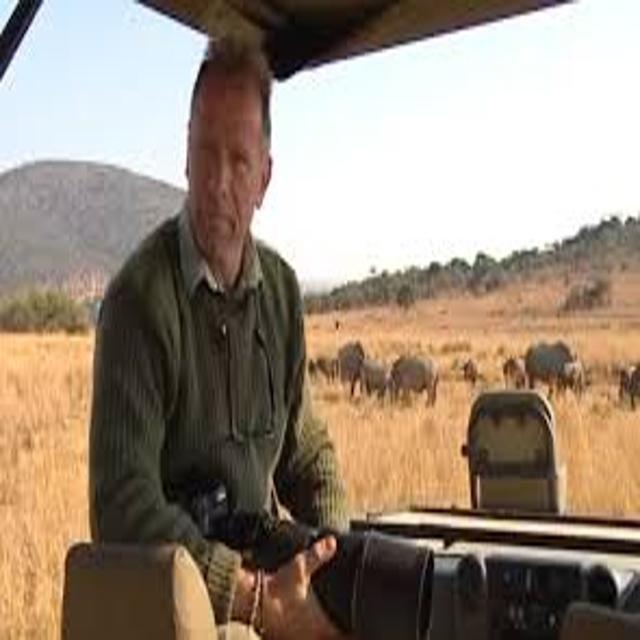poacher: (48, 1, 422, 638)
